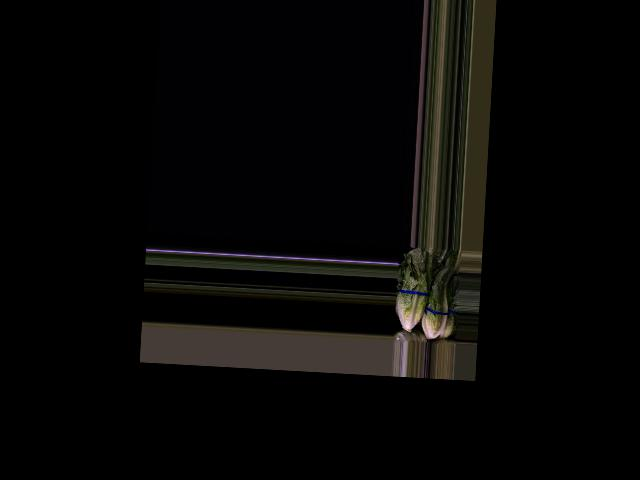lettuce: (420, 264, 456, 341)
